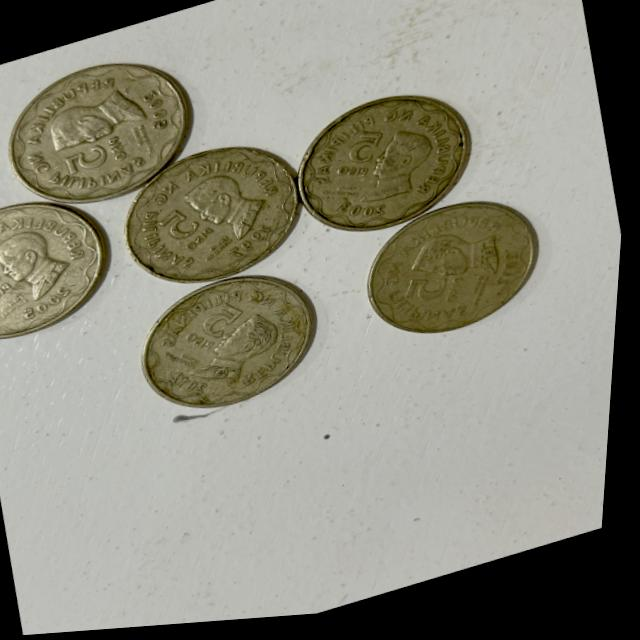5_Old_Front: (145, 296, 266, 384), (52, 128, 142, 194), (388, 267, 482, 330), (324, 127, 402, 202), (155, 201, 224, 265), (0, 244, 23, 308)
